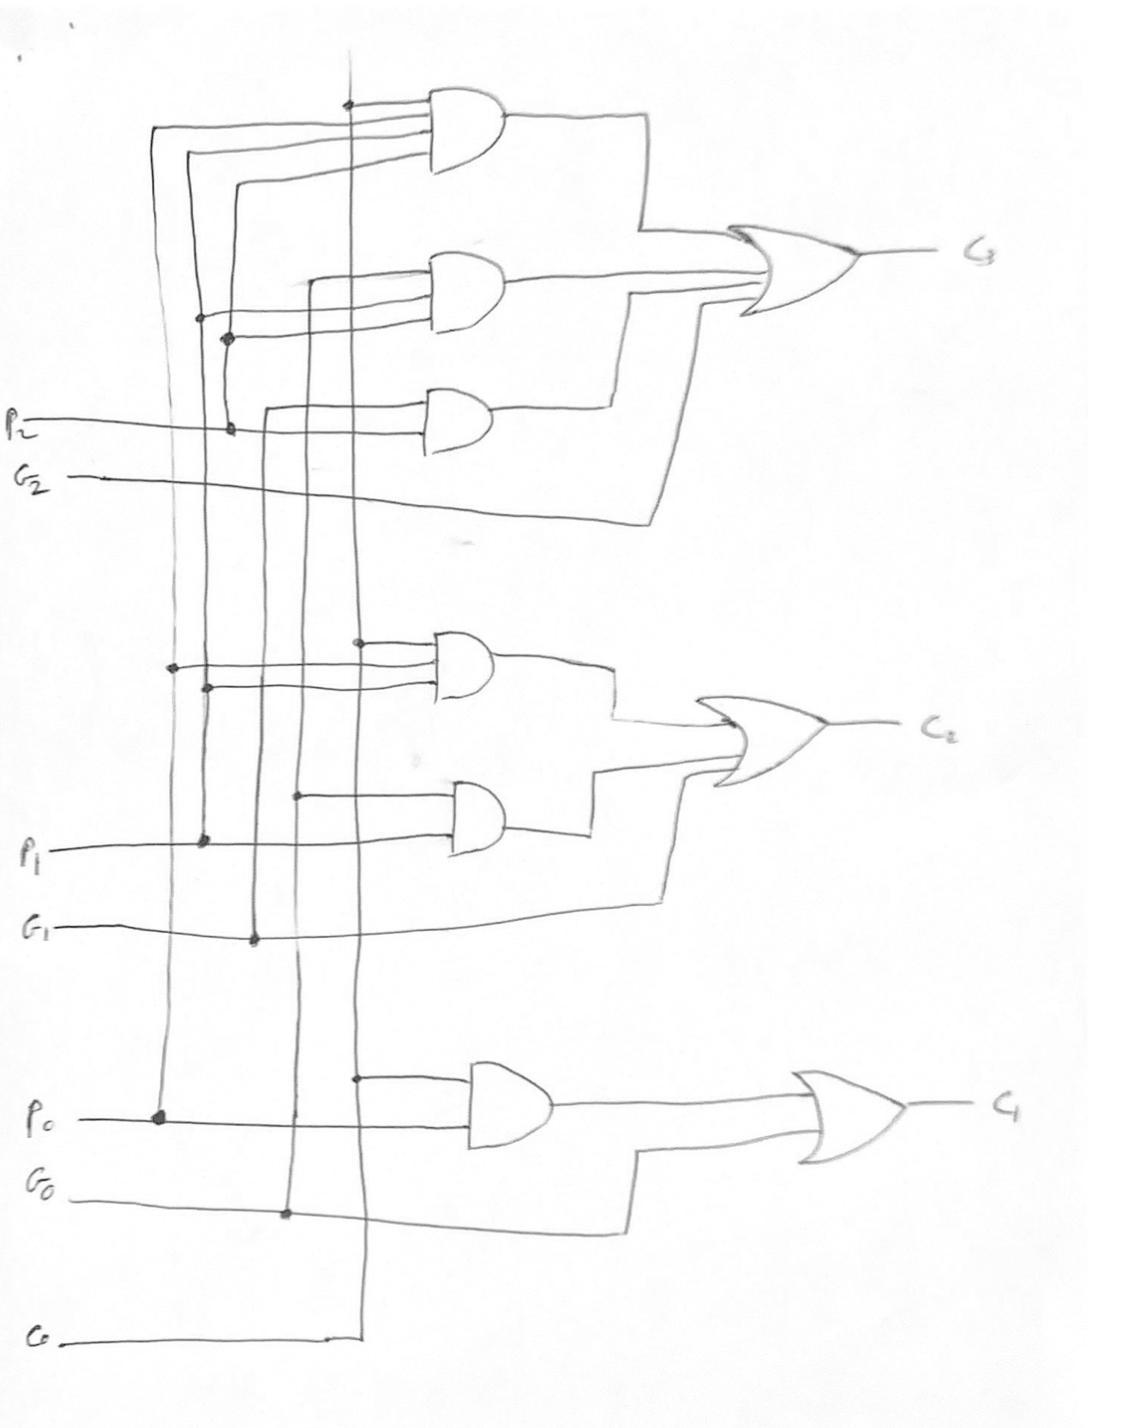AND: (443, 1050, 574, 1165), (415, 67, 523, 180), (413, 240, 516, 351), (413, 607, 513, 711), (408, 380, 509, 472), (432, 765, 518, 869)
OR: (715, 188, 890, 329), (780, 1040, 921, 1186), (694, 668, 837, 801)
